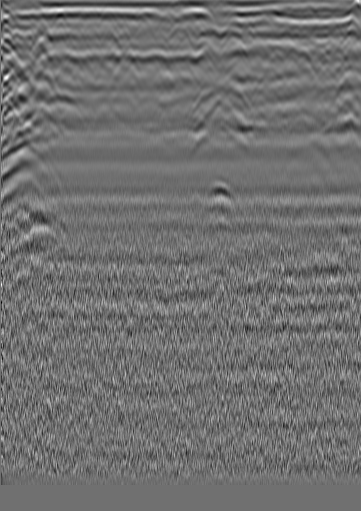상수: (306, 41, 326, 61)
오수: (27, 18, 55, 47)
우수: (150, 29, 170, 49)
